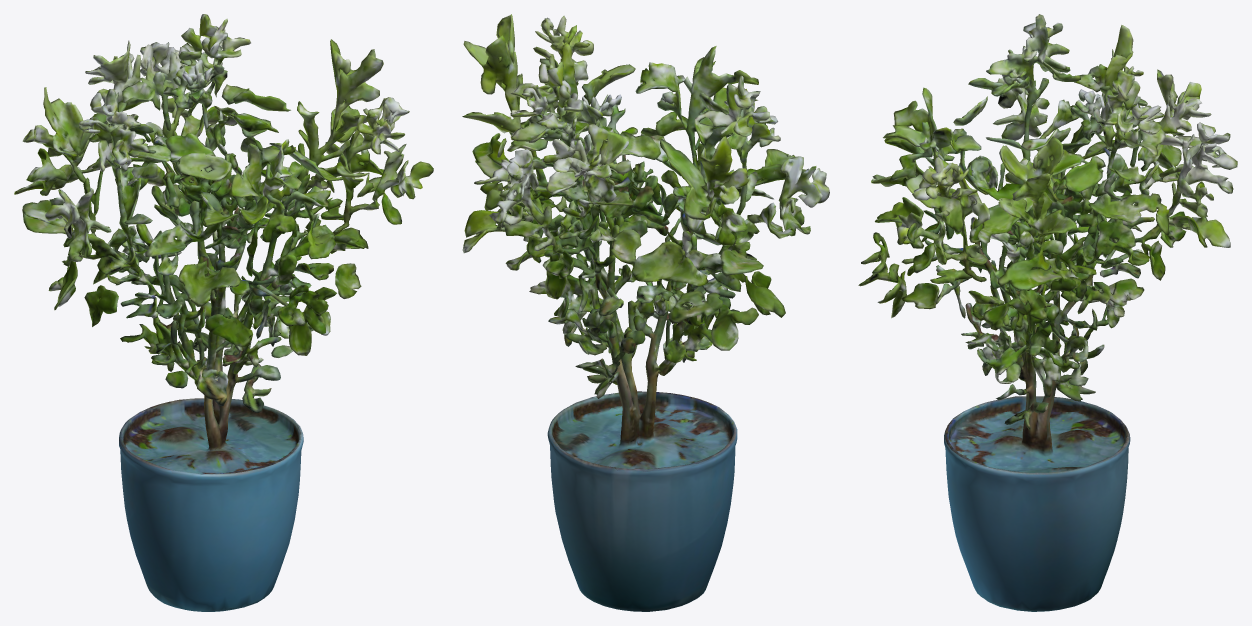
File: shrub0070.gltf
3 views of the same model, side by side, from view 1: azimuth 30°, elevation 25°; view 2: azimuth 150°, elevation 25°; view 3: azimuth 270°, elevation 25° (orthographic). The views are drawn at different scales.
Visible parts, largest first — view 1: Mesh_0.028; view 2: Mesh_0.028; view 3: Mesh_0.028.
Boxes of the visible parts, x1=… form: Mesh_0.028: x1=14, y1=14, x2=433, y2=611; Mesh_0.028: x1=462, y1=14, x2=829, y2=611; Mesh_0.028: x1=858, y1=14, x2=1237, y2=611.
Bounding box in the file's own units: 1.33 × 1.97 × 1.27.
Materials: 1 (1 with a texture image).
